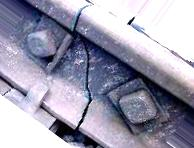tracks_fault: (64, 0, 104, 143)
